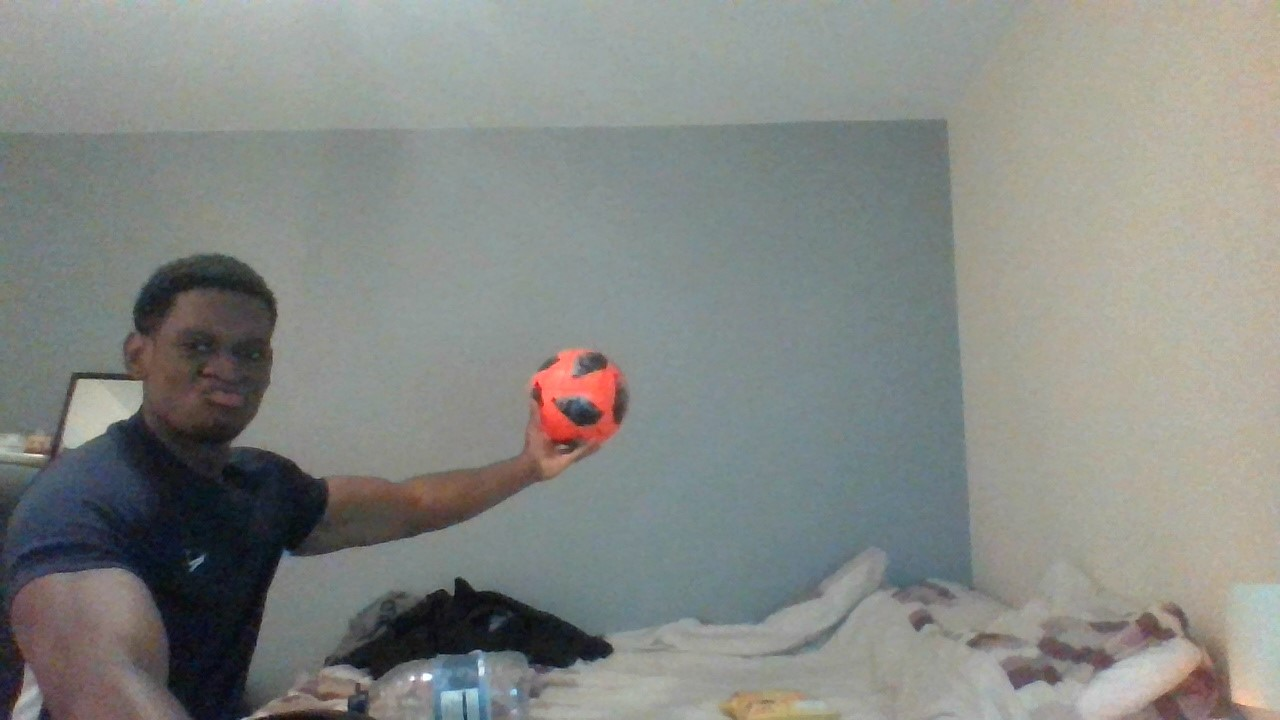football: (530, 348, 630, 440)
